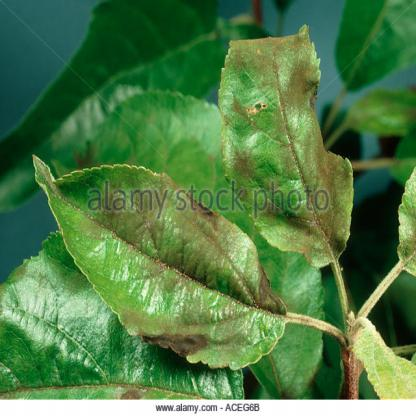apple scab leaf: (32, 148, 299, 378), (223, 29, 360, 273)
